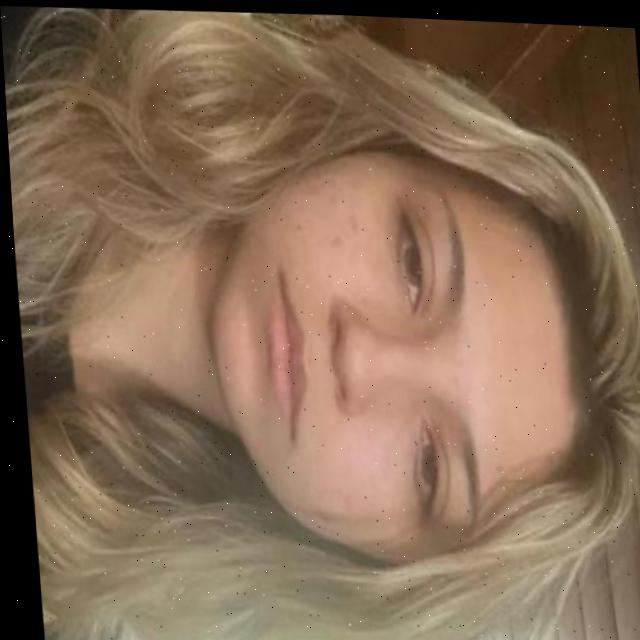Acne: (287, 188, 370, 246)
